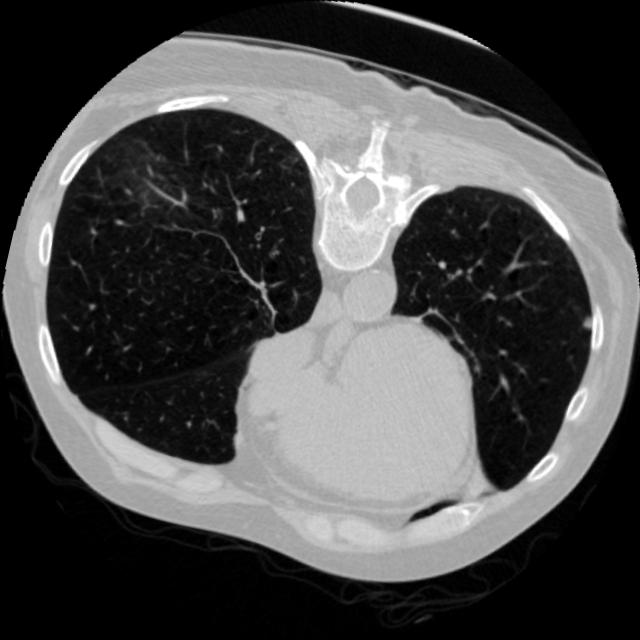nodule: (570, 307, 600, 337)
